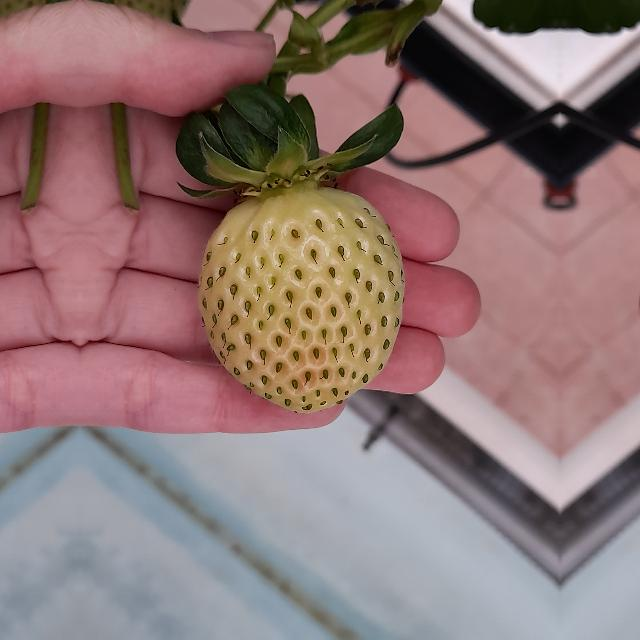Health_50: (197, 184, 405, 413)
